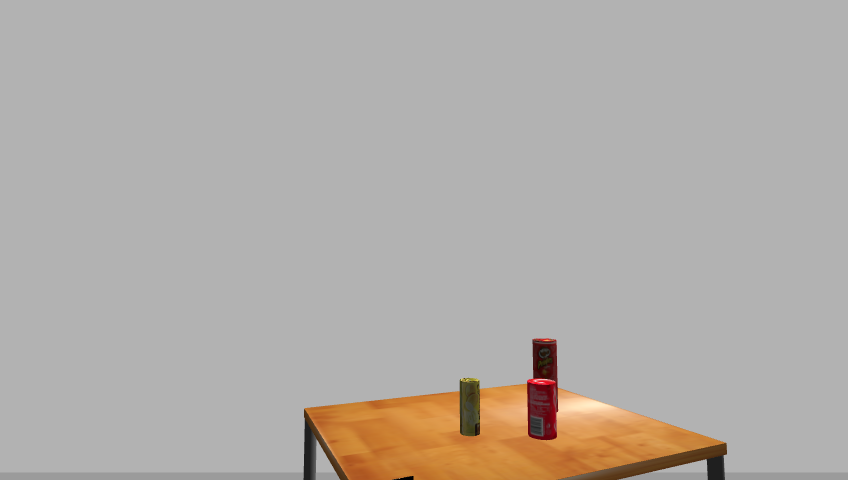biscuits pack: (458, 378, 481, 438)
coke can: (525, 380, 558, 440)
dinner table: (292, 384, 734, 480)
pringles can: (531, 337, 560, 413)
